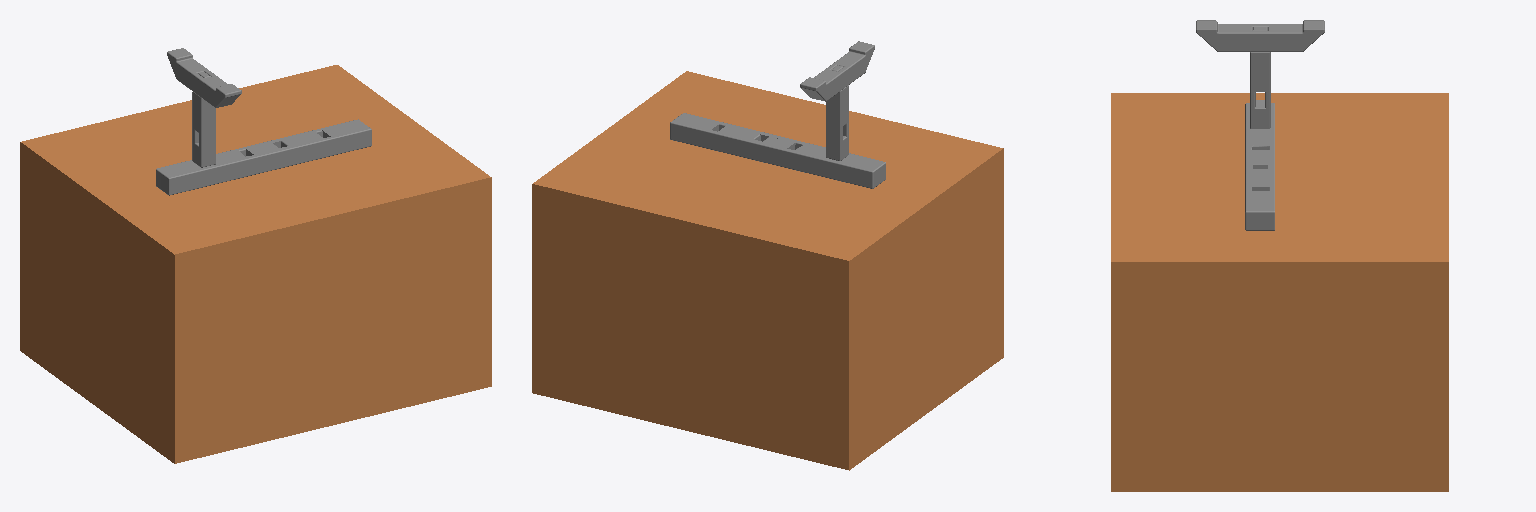
The robot description file, URDF, robot "table_beam_2x_3_scene_0006":
<?xml version="1.0"?>
<robot name="table_beam_2x_3_scene_0006">
  <link name="box">
    <visual>
      <material name="wood"><color rgba="0.82 0.56 0.35 1.0"/></material>
      <origin xyz="0 0 0"/>
      <geometry><box size="0.475 0.4 0.3"/></geometry>
    </visual>
    <collision>
      <origin xyz="0 0 0"/>
      <geometry><box size="0.475 0.4 0.3"/></geometry>
    </collision>
    <inertial>
      <mass value="500"/>
      <friction value="1.0"/>
      <inertia ixx="1000.0" ixy="0.0" ixz="0.0" iyy="1000.0" iyz="0.0" izz="1000.0"/>
    </inertial>
  </link>
  <link name="part_6_hull_0">
    <visual>
      <origin xyz="0 0 0" rpy="0 0 0"/>
      <geometry><mesh filename="../../6/coacd/decomp_0.obj" scale="1 1 1"/></geometry>
      <material name="placed_0"><color rgba="0.6 0.6 0.6 1.0"/></material>
    </visual>
    <collision>
      <origin xyz="0 0 0" rpy="0 0 0"/>
      <geometry><mesh filename="../../6/coacd/decomp_0.obj" scale="1 1 1"/></geometry>
    </collision>
  </link>
  <joint name="part_6_hull_0_joint" type="fixed">
    <parent link="box"/>
    <child link="part_6_hull_0"/>
    <origin xyz="-0.001932 -0.023239 0.162666" rpy="0.000000 0.000000 0.000000"/>
  </joint>
  <link name="part_6_hull_1">
    <visual>
      <origin xyz="0 0 0" rpy="0 0 0"/>
      <geometry><mesh filename="../../6/coacd/decomp_1.obj" scale="1 1 1"/></geometry>
      <material name="placed_1"><color rgba="0.6 0.6 0.6 1.0"/></material>
    </visual>
    <collision>
      <origin xyz="0 0 0" rpy="0 0 0"/>
      <geometry><mesh filename="../../6/coacd/decomp_1.obj" scale="1 1 1"/></geometry>
    </collision>
  </link>
  <joint name="part_6_hull_1_joint" type="fixed">
    <parent link="box"/>
    <child link="part_6_hull_1"/>
    <origin xyz="-0.001932 -0.023239 0.162666" rpy="0.000000 0.000000 0.000000"/>
  </joint>
  <link name="part_6_hull_2">
    <visual>
      <origin xyz="0 0 0" rpy="0 0 0"/>
      <geometry><mesh filename="../../6/coacd/decomp_10.obj" scale="1 1 1"/></geometry>
      <material name="placed_2"><color rgba="0.6 0.6 0.6 1.0"/></material>
    </visual>
    <collision>
      <origin xyz="0 0 0" rpy="0 0 0"/>
      <geometry><mesh filename="../../6/coacd/decomp_10.obj" scale="1 1 1"/></geometry>
    </collision>
  </link>
  <joint name="part_6_hull_2_joint" type="fixed">
    <parent link="box"/>
    <child link="part_6_hull_2"/>
    <origin xyz="-0.001932 -0.023239 0.162666" rpy="0.000000 0.000000 0.000000"/>
  </joint>
  <link name="part_6_hull_3">
    <visual>
      <origin xyz="0 0 0" rpy="0 0 0"/>
      <geometry><mesh filename="../../6/coacd/decomp_11.obj" scale="1 1 1"/></geometry>
      <material name="placed_3"><color rgba="0.6 0.6 0.6 1.0"/></material>
    </visual>
    <collision>
      <origin xyz="0 0 0" rpy="0 0 0"/>
      <geometry><mesh filename="../../6/coacd/decomp_11.obj" scale="1 1 1"/></geometry>
    </collision>
  </link>
  <joint name="part_6_hull_3_joint" type="fixed">
    <parent link="box"/>
    <child link="part_6_hull_3"/>
    <origin xyz="-0.001932 -0.023239 0.162666" rpy="0.000000 0.000000 0.000000"/>
  </joint>
  <link name="part_6_hull_4">
    <visual>
      <origin xyz="0 0 0" rpy="0 0 0"/>
      <geometry><mesh filename="../../6/coacd/decomp_12.obj" scale="1 1 1"/></geometry>
      <material name="placed_4"><color rgba="0.6 0.6 0.6 1.0"/></material>
    </visual>
    <collision>
      <origin xyz="0 0 0" rpy="0 0 0"/>
      <geometry><mesh filename="../../6/coacd/decomp_12.obj" scale="1 1 1"/></geometry>
    </collision>
  </link>
  <joint name="part_6_hull_4_joint" type="fixed">
    <parent link="box"/>
    <child link="part_6_hull_4"/>
    <origin xyz="-0.001932 -0.023239 0.162666" rpy="0.000000 0.000000 0.000000"/>
  </joint>
  <link name="part_6_hull_5">
    <visual>
      <origin xyz="0 0 0" rpy="0 0 0"/>
      <geometry><mesh filename="../../6/coacd/decomp_13.obj" scale="1 1 1"/></geometry>
      <material name="placed_5"><color rgba="0.6 0.6 0.6 1.0"/></material>
    </visual>
    <collision>
      <origin xyz="0 0 0" rpy="0 0 0"/>
      <geometry><mesh filename="../../6/coacd/decomp_13.obj" scale="1 1 1"/></geometry>
    </collision>
  </link>
  <joint name="part_6_hull_5_joint" type="fixed">
    <parent link="box"/>
    <child link="part_6_hull_5"/>
    <origin xyz="-0.001932 -0.023239 0.162666" rpy="0.000000 0.000000 0.000000"/>
  </joint>
  <link name="part_6_hull_6">
    <visual>
      <origin xyz="0 0 0" rpy="0 0 0"/>
      <geometry><mesh filename="../../6/coacd/decomp_2.obj" scale="1 1 1"/></geometry>
      <material name="placed_6"><color rgba="0.6 0.6 0.6 1.0"/></material>
    </visual>
    <collision>
      <origin xyz="0 0 0" rpy="0 0 0"/>
      <geometry><mesh filename="../../6/coacd/decomp_2.obj" scale="1 1 1"/></geometry>
    </collision>
  </link>
  <joint name="part_6_hull_6_joint" type="fixed">
    <parent link="box"/>
    <child link="part_6_hull_6"/>
    <origin xyz="-0.001932 -0.023239 0.162666" rpy="0.000000 0.000000 0.000000"/>
  </joint>
  <link name="part_6_hull_7">
    <visual>
      <origin xyz="0 0 0" rpy="0 0 0"/>
      <geometry><mesh filename="../../6/coacd/decomp_3.obj" scale="1 1 1"/></geometry>
      <material name="placed_7"><color rgba="0.6 0.6 0.6 1.0"/></material>
    </visual>
    <collision>
      <origin xyz="0 0 0" rpy="0 0 0"/>
      <geometry><mesh filename="../../6/coacd/decomp_3.obj" scale="1 1 1"/></geometry>
    </collision>
  </link>
  <joint name="part_6_hull_7_joint" type="fixed">
    <parent link="box"/>
    <child link="part_6_hull_7"/>
    <origin xyz="-0.001932 -0.023239 0.162666" rpy="0.000000 0.000000 0.000000"/>
  </joint>
  <link name="part_6_hull_8">
    <visual>
      <origin xyz="0 0 0" rpy="0 0 0"/>
      <geometry><mesh filename="../../6/coacd/decomp_4.obj" scale="1 1 1"/></geometry>
      <material name="placed_8"><color rgba="0.6 0.6 0.6 1.0"/></material>
    </visual>
    <collision>
      <origin xyz="0 0 0" rpy="0 0 0"/>
      <geometry><mesh filename="../../6/coacd/decomp_4.obj" scale="1 1 1"/></geometry>
    </collision>
  </link>
  <joint name="part_6_hull_8_joint" type="fixed">
    <parent link="box"/>
    <child link="part_6_hull_8"/>
    <origin xyz="-0.001932 -0.023239 0.162666" rpy="0.000000 0.000000 0.000000"/>
  </joint>
  <link name="part_6_hull_9">
    <visual>
      <origin xyz="0 0 0" rpy="0 0 0"/>
      <geometry><mesh filename="../../6/coacd/decomp_5.obj" scale="1 1 1"/></geometry>
      <material name="placed_9"><color rgba="0.6 0.6 0.6 1.0"/></material>
    </visual>
    <collision>
      <origin xyz="0 0 0" rpy="0 0 0"/>
      <geometry><mesh filename="../../6/coacd/decomp_5.obj" scale="1 1 1"/></geometry>
    </collision>
  </link>
  <joint name="part_6_hull_9_joint" type="fixed">
    <parent link="box"/>
    <child link="part_6_hull_9"/>
    <origin xyz="-0.001932 -0.023239 0.162666" rpy="0.000000 0.000000 0.000000"/>
  </joint>
  <link name="part_6_hull_10">
    <visual>
      <origin xyz="0 0 0" rpy="0 0 0"/>
      <geometry><mesh filename="../../6/coacd/decomp_6.obj" scale="1 1 1"/></geometry>
      <material name="placed_10"><color rgba="0.6 0.6 0.6 1.0"/></material>
    </visual>
    <collision>
      <origin xyz="0 0 0" rpy="0 0 0"/>
      <geometry><mesh filename="../../6/coacd/decomp_6.obj" scale="1 1 1"/></geometry>
    </collision>
  </link>
  <joint name="part_6_hull_10_joint" type="fixed">
    <parent link="box"/>
    <child link="part_6_hull_10"/>
    <origin xyz="-0.001932 -0.023239 0.162666" rpy="0.000000 0.000000 0.000000"/>
  </joint>
  <link name="part_6_hull_11">
    <visual>
      <origin xyz="0 0 0" rpy="0 0 0"/>
      <geometry><mesh filename="../../6/coacd/decomp_7.obj" scale="1 1 1"/></geometry>
      <material name="placed_11"><color rgba="0.6 0.6 0.6 1.0"/></material>
    </visual>
    <collision>
      <origin xyz="0 0 0" rpy="0 0 0"/>
      <geometry><mesh filename="../../6/coacd/decomp_7.obj" scale="1 1 1"/></geometry>
    </collision>
  </link>
  <joint name="part_6_hull_11_joint" type="fixed">
    <parent link="box"/>
    <child link="part_6_hull_11"/>
    <origin xyz="-0.001932 -0.023239 0.162666" rpy="0.000000 0.000000 0.000000"/>
  </joint>
  <link name="part_6_hull_12">
    <visual>
      <origin xyz="0 0 0" rpy="0 0 0"/>
      <geometry><mesh filename="../../6/coacd/decomp_8.obj" scale="1 1 1"/></geometry>
      <material name="placed_12"><color rgba="0.6 0.6 0.6 1.0"/></material>
    </visual>
    <collision>
      <origin xyz="0 0 0" rpy="0 0 0"/>
      <geometry><mesh filename="../../6/coacd/decomp_8.obj" scale="1 1 1"/></geometry>
    </collision>
  </link>
  <joint name="part_6_hull_12_joint" type="fixed">
    <parent link="box"/>
    <child link="part_6_hull_12"/>
    <origin xyz="-0.001932 -0.023239 0.162666" rpy="0.000000 0.000000 0.000000"/>
  </joint>
  <link name="part_6_hull_13">
    <visual>
      <origin xyz="0 0 0" rpy="0 0 0"/>
      <geometry><mesh filename="../../6/coacd/decomp_9.obj" scale="1 1 1"/></geometry>
      <material name="placed_13"><color rgba="0.6 0.6 0.6 1.0"/></material>
    </visual>
    <collision>
      <origin xyz="0 0 0" rpy="0 0 0"/>
      <geometry><mesh filename="../../6/coacd/decomp_9.obj" scale="1 1 1"/></geometry>
    </collision>
  </link>
  <joint name="part_6_hull_13_joint" type="fixed">
    <parent link="box"/>
    <child link="part_6_hull_13"/>
    <origin xyz="-0.001932 -0.023239 0.162666" rpy="0.000000 0.000000 0.000000"/>
  </joint>
  <link name="part_2_canonical">
    <visual>
      <origin xyz="0 0 0" rpy="0 0 0"/>
      <geometry><mesh filename="../../2/2_canonical.obj" scale="1 1 1"/></geometry>
      <material name="placed_14"><color rgba="0.6 0.6 0.6 1.0"/></material>
    </visual>
    <collision>
      <origin xyz="0 0 0" rpy="0 0 0"/>
      <geometry><mesh filename="../../2/2_canonical.obj" scale="1 1 1"/></geometry>
    </collision>
  </link>
  <joint name="part_2_canonical_joint" type="fixed">
    <parent link="box"/>
    <child link="part_2_canonical"/>
    <origin xyz="-0.090859 -0.023239 0.225384" rpy="0.000000 -1.570796 0.000000"/>
  </joint>
  <link name="part_0_canonical">
    <visual>
      <origin xyz="0 0 0" rpy="0 0 0"/>
      <geometry><mesh filename="../../0/0_canonical.obj" scale="1 1 1"/></geometry>
      <material name="placed_15"><color rgba="0.6 0.6 0.6 1.0"/></material>
    </visual>
    <collision>
      <origin xyz="0 0 0" rpy="0 0 0"/>
      <geometry><mesh filename="../../0/0_canonical.obj" scale="1 1 1"/></geometry>
    </collision>
  </link>
  <joint name="part_0_canonical_joint" type="fixed">
    <parent link="box"/>
    <child link="part_0_canonical"/>
    <origin xyz="-0.090832 -0.023239 0.292243" rpy="1.570796 0.000000 -1.570796"/>
  </joint>
</robot>

--- What the picture shows (computed from the rendered views, not written in the file) ---
The picture shows the robot from 3 angles, left to right: view 1: azimuth 30°, elevation 25°; view 2: azimuth 150°, elevation 25°; view 3: azimuth 270°, elevation 25°; orthographic projection.
Model table_beam_2x_3_scene_0006 with 17 links and 16 joints (16 fixed), rooted at box, posed every joint at zero.
Links seen in each view (by area): view 1: box, part_0_canonical, part_2_canonical, part_6_hull_1, part_6_hull_0, part_6_hull_9, part_6_hull_5, part_6_hull_3; view 2: box, part_0_canonical, part_2_canonical, part_6_hull_1, part_6_hull_0, part_6_hull_2, part_6_hull_12, part_6_hull_5; view 3: box, part_0_canonical, part_2_canonical, part_6_hull_0.
Link boxes in pixels (left/top/right/bottom): box: left=20, top=65, right=491, bottom=463; part_0_canonical: left=167, top=48, right=241, bottom=107; part_2_canonical: left=192, top=72, right=215, bottom=167; part_6_hull_1: left=156, top=160, right=207, bottom=195; part_6_hull_0: left=321, top=119, right=371, bottom=155; part_6_hull_9: left=206, top=155, right=256, bottom=185; part_6_hull_5: left=287, top=130, right=325, bottom=163; part_6_hull_3: left=258, top=144, right=298, bottom=172; box: left=532, top=71, right=1003, bottom=470; part_0_canonical: left=800, top=41, right=874, bottom=101; part_2_canonical: left=826, top=65, right=848, bottom=160; part_6_hull_1: left=834, top=153, right=885, bottom=188; part_6_hull_0: left=670, top=113, right=720, bottom=148; part_6_hull_2: left=792, top=145, right=828, bottom=177; part_6_hull_12: left=742, top=138, right=783, bottom=166; part_6_hull_5: left=716, top=124, right=754, bottom=156; box: left=1111, top=93, right=1448, bottom=491; part_0_canonical: left=1196, top=20, right=1324, bottom=51; part_2_canonical: left=1250, top=27, right=1270, bottom=128; part_6_hull_0: left=1245, top=191, right=1274, bottom=230.
Size in the robot's own frame: 0.475 by 0.4 by 0.4575 metres.
16 mesh visuals loaded from 16 distinct referenced files (16 OBJ).
